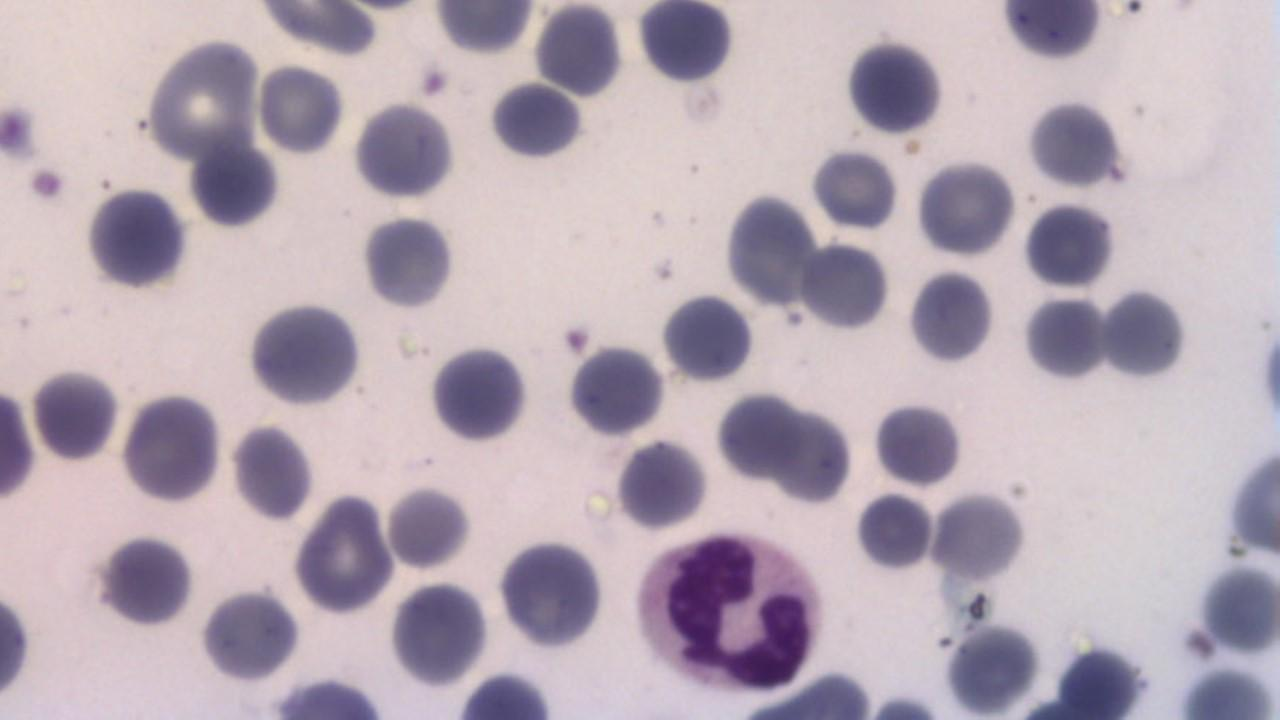Platelets: (386, 575, 489, 689), (425, 342, 531, 448), (840, 33, 946, 139), (355, 208, 458, 313), (92, 528, 199, 629), (1020, 97, 1127, 192), (612, 433, 710, 535), (902, 266, 998, 367), (868, 396, 969, 490), (1099, 287, 1195, 385), (29, 364, 123, 464), (530, 2, 627, 98), (187, 134, 281, 232), (1020, 197, 1116, 292), (483, 78, 588, 164), (382, 479, 475, 574), (230, 422, 317, 523), (807, 146, 901, 233), (1194, 560, 1278, 656), (1018, 294, 1107, 384), (848, 491, 934, 576), (997, 2, 1105, 65), (1173, 662, 1279, 720), (1255, 314, 1279, 430), (1, 96, 40, 164), (24, 163, 69, 205), (416, 61, 452, 102)
RBC: (144, 33, 258, 163), (291, 492, 395, 618), (836, 34, 954, 144), (119, 386, 223, 507), (348, 96, 461, 205), (384, 579, 491, 688), (197, 584, 303, 686), (914, 156, 1016, 260), (612, 432, 714, 532), (530, 0, 625, 98), (229, 416, 317, 520), (770, 400, 854, 508), (798, 237, 891, 334), (30, 361, 119, 462), (255, 60, 347, 157), (382, 479, 475, 574), (807, 144, 904, 235), (712, 389, 801, 484), (1019, 292, 1107, 386), (1225, 440, 1279, 566), (430, 0, 537, 59), (2, 376, 39, 507), (1, 572, 35, 706)
WBC: (696, 0, 1270, 392), (625, 522, 830, 697), (243, 294, 368, 410), (496, 534, 608, 653), (718, 187, 821, 312), (81, 181, 193, 294), (426, 337, 536, 446), (839, 33, 951, 140), (349, 96, 458, 205), (566, 333, 674, 442), (93, 526, 204, 632), (195, 583, 306, 684), (658, 288, 762, 386), (902, 265, 1000, 368), (1018, 199, 1121, 289), (634, 0, 740, 87), (994, 2, 1109, 64)
